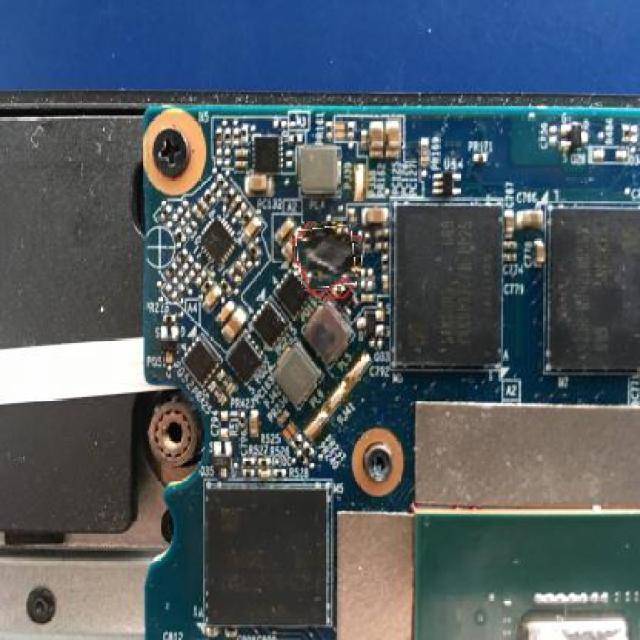Burn: (296, 226, 356, 288)
